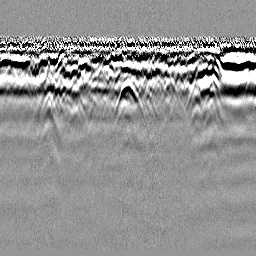cavity: (112, 76, 145, 124)
